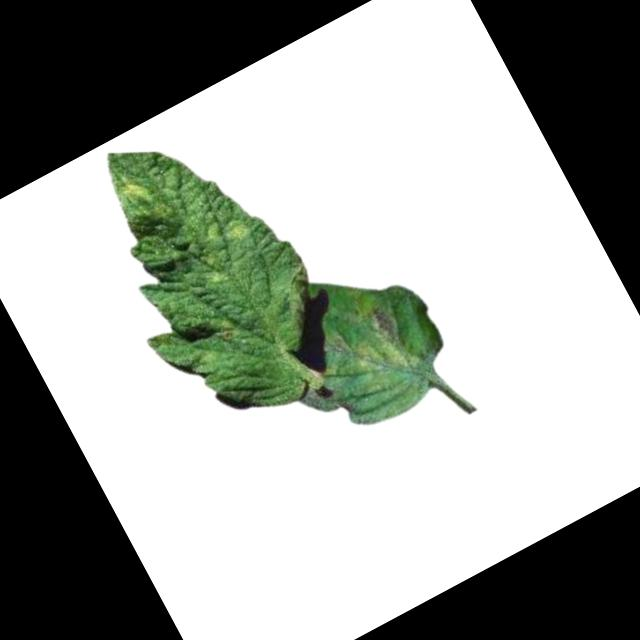Leaf_Mold: (338, 300, 423, 394), (117, 173, 155, 213), (218, 213, 253, 251)
